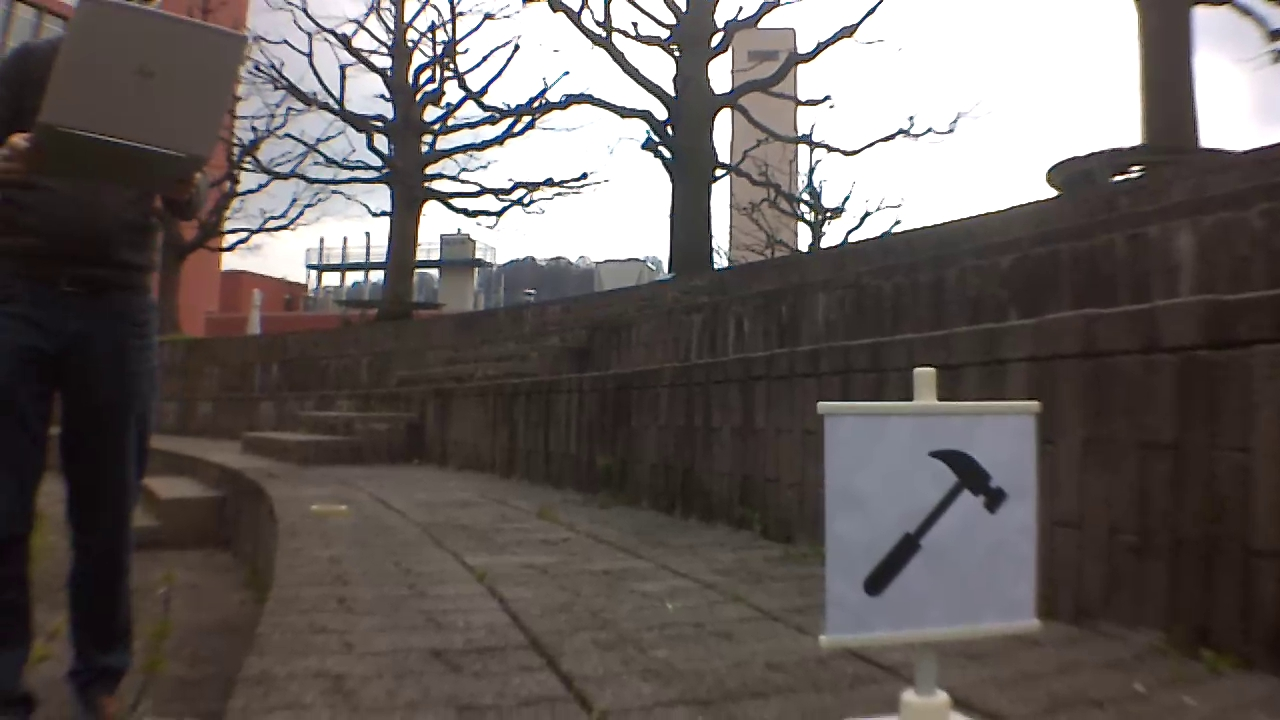hammer: (862, 446, 1017, 596)
